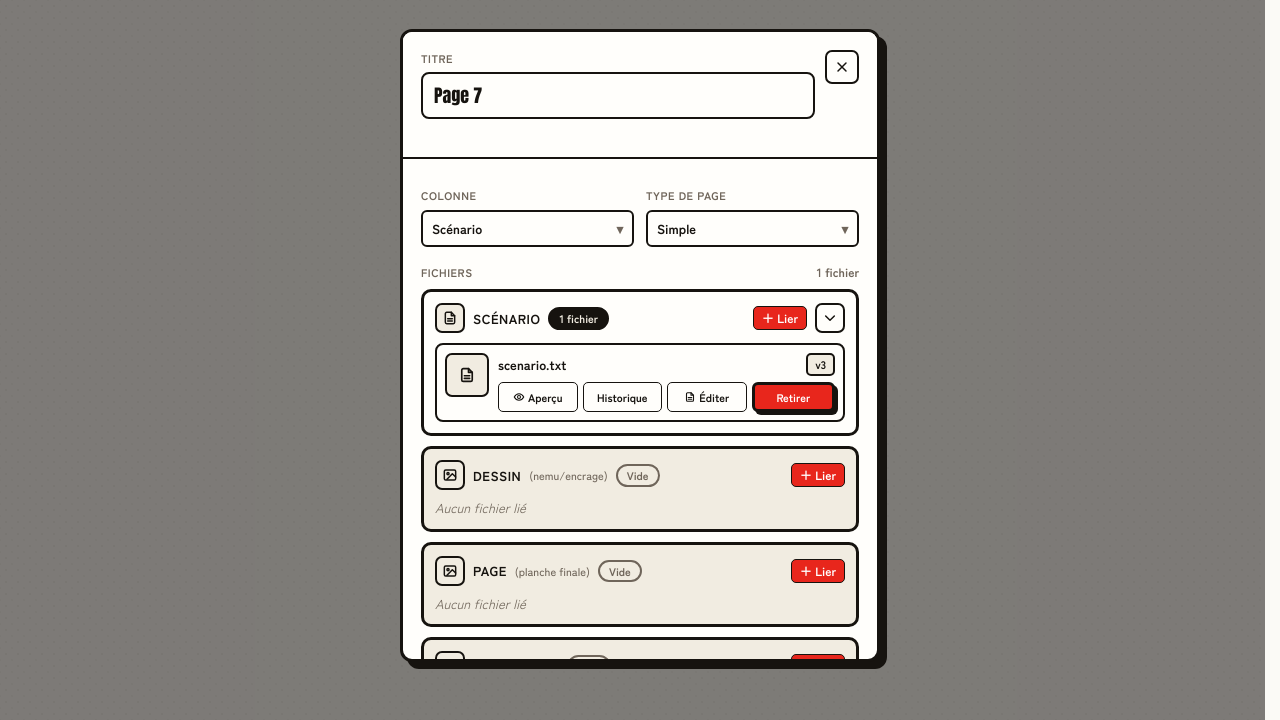
Test: CardModal › opens the per-file version history (AssetVersionsModal)
Expected: the text "scenario.txt" is shown, [498, 355, 566, 374]
Click the button with aria-label "Historique des versions de scenario.txt" at (622,397), box [582, 382, 662, 412]
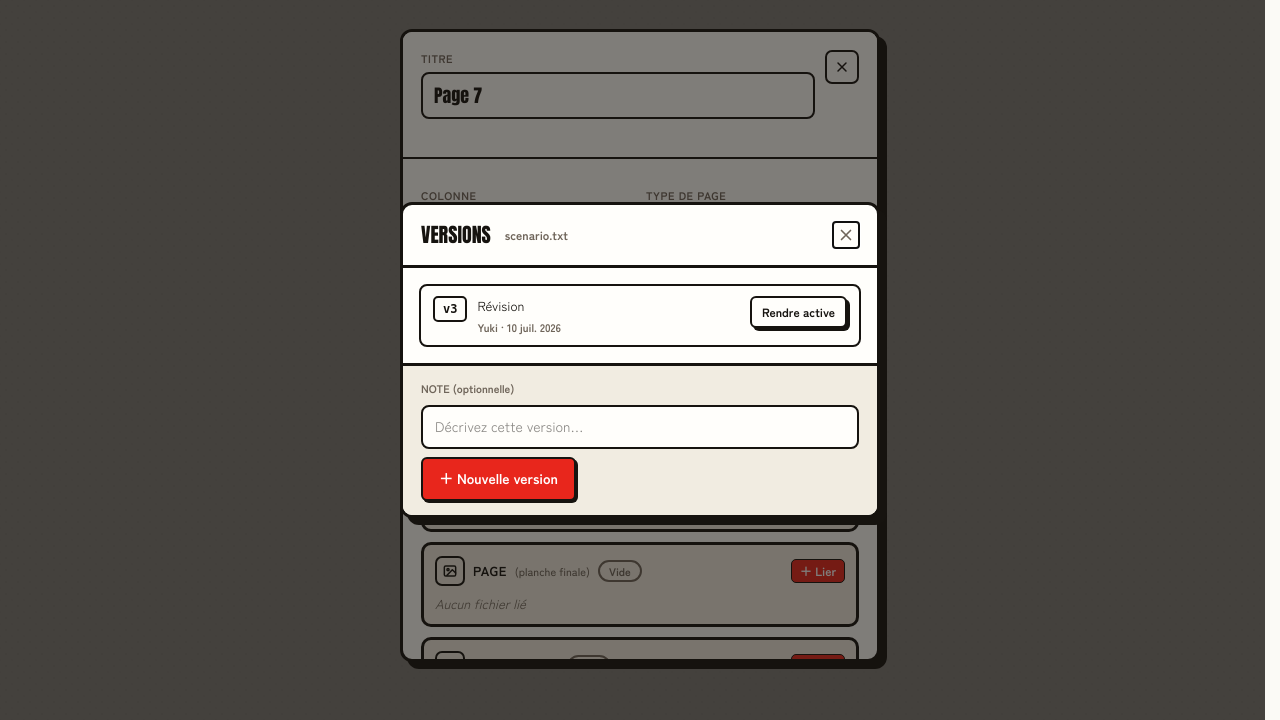
Expected: the dialog "Versions" is shown, [400, 202, 880, 518]
